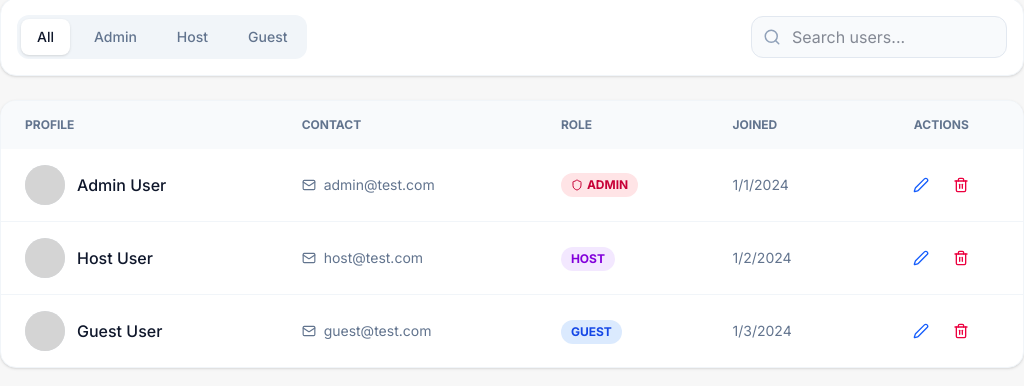
it: UsersPage › filters users by role
This screenshot has width=1024, height=386.
Check: the text "Admin User" is shown, box left=77, top=173, right=166, bottom=197
Click the button "Host": (192, 37) left=161, top=19, right=224, bottom=55
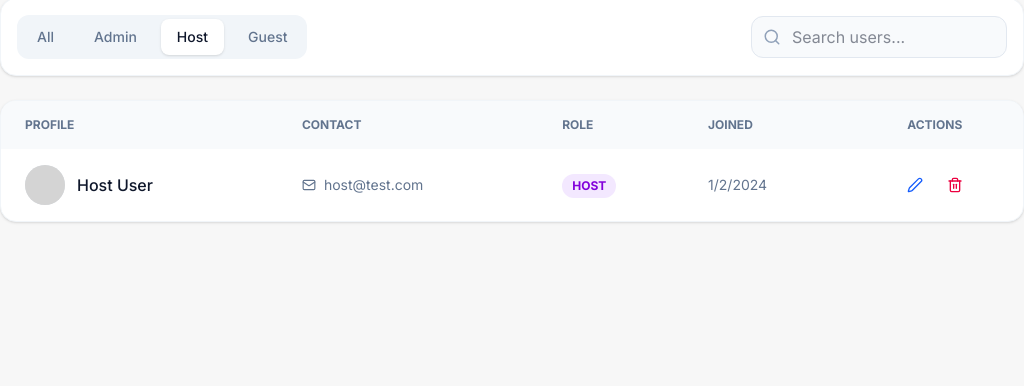
Check: the text "Host User" is shown, box left=77, top=173, right=153, bottom=197
Check: the text "Admin User" is gone
